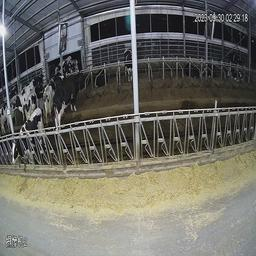cow: (9, 105, 47, 181), (51, 69, 81, 134), (17, 78, 46, 117), (41, 65, 57, 117), (58, 48, 82, 74), (183, 54, 203, 82), (120, 42, 133, 84), (91, 69, 111, 91), (204, 58, 220, 84), (224, 57, 234, 88)
